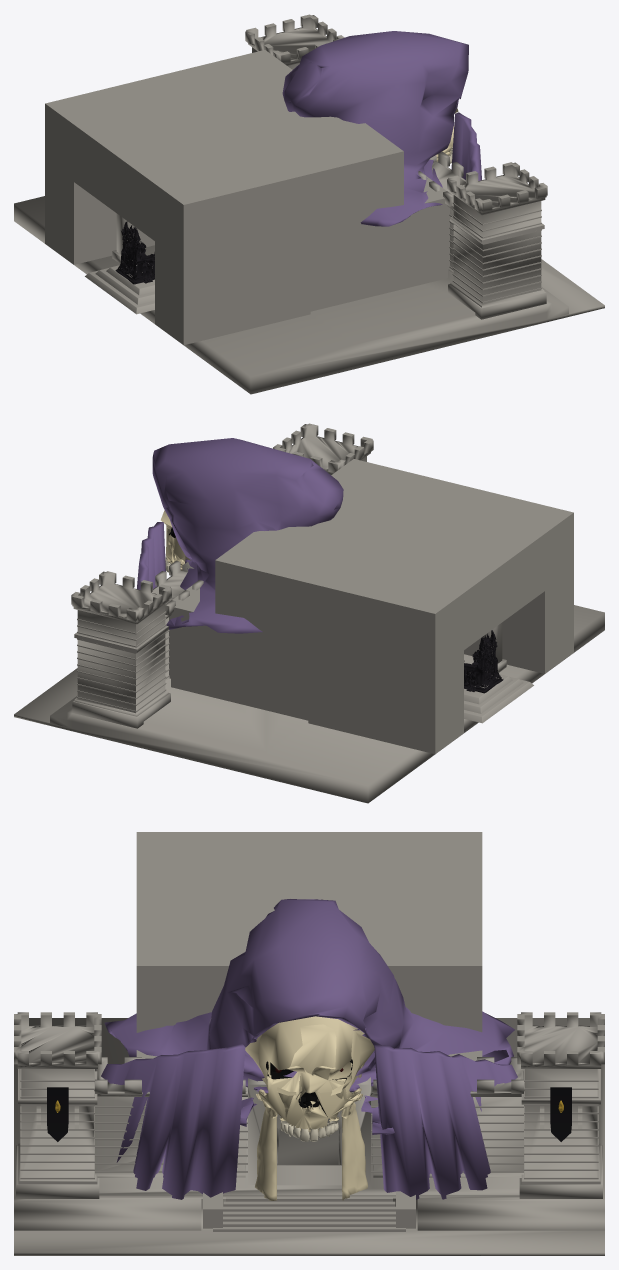
File: leonidas-grayskull-lod2.glb
3 views of the same model, one above another, from view 1: azimuth 30°, elevation 25°; view 2: azimuth 150°, elevation 25°; view 3: azimuth 270°, elevation 25° (orthographic). The views are drawn at different scales.
Parts seen in each view (by area): view 1: GS_Interior_LOD2, GS_Walls_LOD2, GS_Hood_LOD2, GS_Bastion_L_LOD2, GS_Bastion_R_LOD2, GS_Courses_LOD2, GS_Throne_LOD2, GS_ThroneSeat_LOD2; view 2: GS_Interior_LOD2, GS_Walls_LOD2, GS_Hood_LOD2, GS_Bastion_R_LOD2, GS_Bastion_L_LOD2, GS_Courses_LOD2, GS_Throne_LOD2, GS_ThroneSeat_LOD2, GS_Skull_LOD2; view 3: GS_Hood_LOD2, GS_Interior_LOD2, GS_Walls_LOD2, GS_Bastion_L_LOD2, GS_Bastion_R_LOD2, GS_Skull_LOD2, GS_Stairs_LOD2, GS_Courses_LOD2, GS_Jambs_LOD2, GS_Banner_L_LOD2, GS_Banner_R_LOD2, GS_Teeth_LOD2.
Boxes of the visible parts, x1=… form: GS_Interior_LOD2: x1=45, y1=50, x2=449, y2=344; GS_Walls_LOD2: x1=14, y1=152, x2=604, y2=394; GS_Hood_LOD2: x1=282, y1=31, x2=481, y2=226; GS_Bastion_L_LOD2: x1=447, y1=162, x2=547, y2=319; GS_Bastion_R_LOD2: x1=245, y1=14, x2=344, y2=69; GS_Courses_LOD2: x1=449, y1=202, x2=541, y2=303; GS_Throne_LOD2: x1=85, y1=263, x2=154, y2=314; GS_ThroneSeat_LOD2: x1=115, y1=221, x2=154, y2=284; GS_Interior_LOD2: x1=169, y1=459, x2=573, y2=753; GS_Walls_LOD2: x1=14, y1=561, x2=604, y2=803; GS_Hood_LOD2: x1=137, y1=438, x2=343, y2=633; GS_Bastion_R_LOD2: x1=71, y1=571, x2=171, y2=728; GS_Bastion_L_LOD2: x1=273, y1=423, x2=373, y2=474; GS_Courses_LOD2: x1=77, y1=611, x2=169, y2=712; GS_Throne_LOD2: x1=464, y1=674, x2=533, y2=723; GS_ThroneSeat_LOD2: x1=464, y1=630, x2=503, y2=693; GS_Skull_LOD2: x1=160, y1=510, x2=190, y2=570; GS_Hood_LOD2: x1=101, y1=899, x2=517, y2=1199; GS_Interior_LOD2: x1=136, y1=832, x2=482, y2=1118; GS_Walls_LOD2: x1=14, y1=1018, x2=604, y2=1255; GS_Bastion_L_LOD2: x1=14, y1=1012, x2=101, y2=1198; GS_Bastion_R_LOD2: x1=517, y1=1012, x2=604, y2=1198; GS_Skull_LOD2: x1=245, y1=1016, x2=374, y2=1132; GS_Stairs_LOD2: x1=203, y1=1191, x2=415, y2=1231; GS_Courses_LOD2: x1=20, y1=1069, x2=598, y2=1179; GS_Jambs_LOD2: x1=255, y1=1092, x2=367, y2=1200; GS_Banner_L_LOD2: x1=47, y1=1087, x2=68, y2=1141; GS_Banner_R_LOD2: x1=550, y1=1087, x2=571, y2=1141; GS_Teeth_LOD2: x1=280, y1=1120, x2=338, y2=1141.
Bounding box in the file's own units: 117 × 62.2 × 128.
